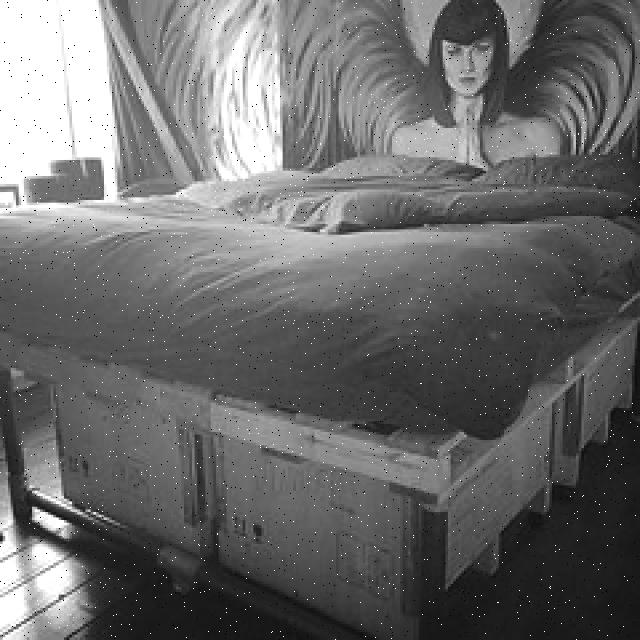bed: (9, 155, 628, 555)
